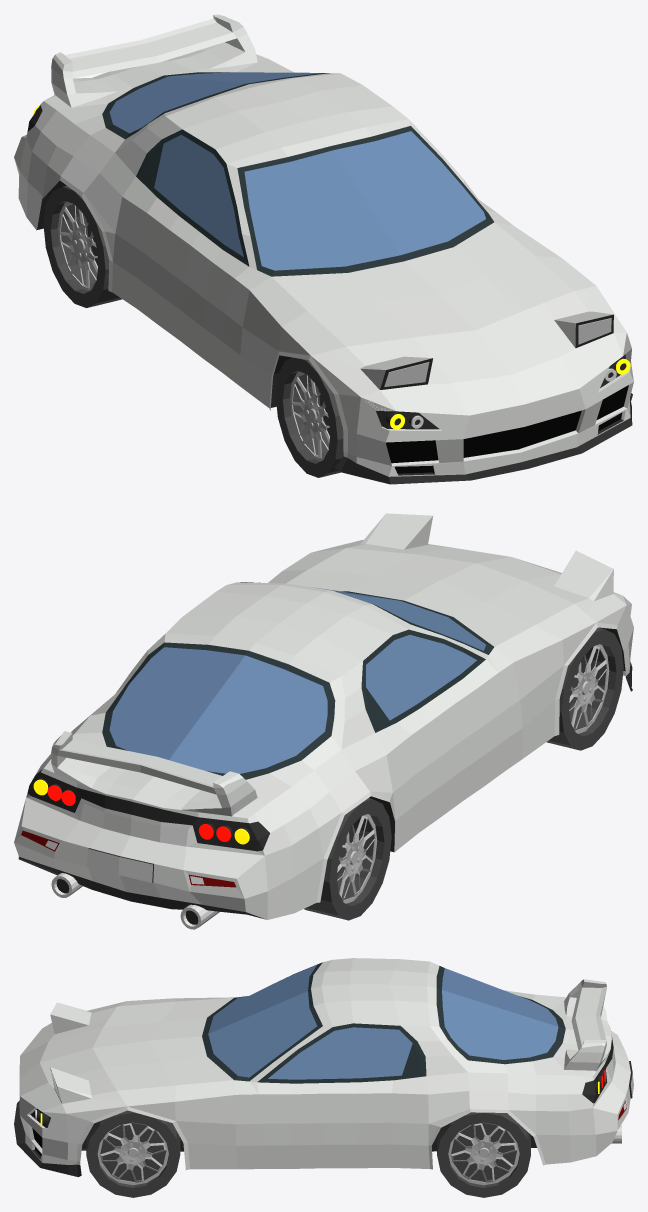
Rendered from mazda.fbx.
The picture shows the model from 3 angles, top to bottom: view 1: azimuth 30°, elevation 25°; view 2: azimuth 150°, elevation 25°; view 3: azimuth 270°, elevation 25°; orthographic projection. The views are drawn at different scales.
Visible parts, largest first — view 1: car_mazda, wheel_fr_mazda, wheel_br_mazda; view 2: car_mazda, wheel_br_mazda, wheel_fr_mazda; view 3: car_mazda, wheel_bl_mazda, wheel_fl_mazda.
Part boxes in pixels (<box>): car_mazda: <box>14,14,633,484</box>; wheel_fr_mazda: <box>275,357,343,477</box>; wheel_br_mazda: <box>43,185,121,307</box>; car_mazda: <box>14,513,633,929</box>; wheel_br_mazda: <box>304,798,391,920</box>; wheel_fr_mazda: <box>546,627,623,750</box>; car_mazda: <box>14,958,633,1176</box>; wheel_bl_mazda: <box>437,1112,530,1197</box>; wheel_fl_mazda: <box>86,1110,180,1197</box>.
Size of the model in its own units: 200 by 136 by 476.
